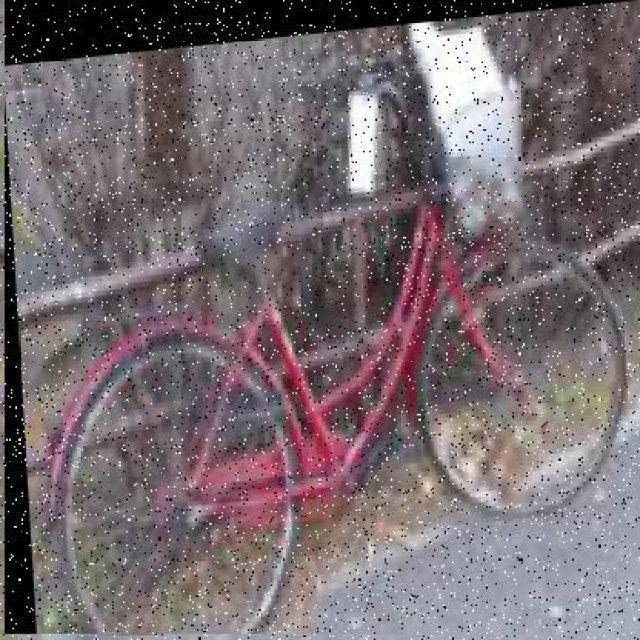bicycle: (4, 1, 640, 638)
